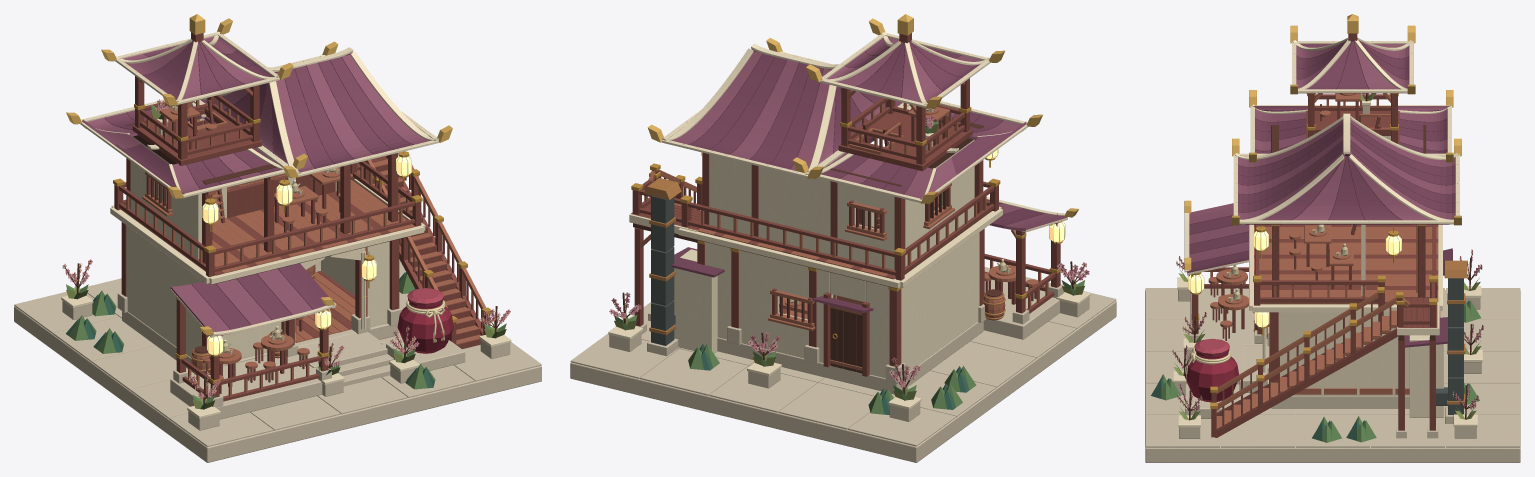
File: tavern.glb
3 renders of one model, left to right at view 1: azimuth 30°, elevation 25°; view 2: azimuth 150°, elevation 25°; view 3: azimuth 270°, elevation 25°, orthographic. The views are drawn at different scales.
Parts seen in each view (by area): view 1: TW17batch_0.001, TW17batch_5.001, TW17batch_32.001, TW17batch_11.001, TW17batch_31.001, TW17batch_53.001, TW17batch_21.001, TW17batch_3.001, TW17batch_41.001, TW17batch_42.001, TW17batch_12.001, TW17batch_34.001 (+47 smaller); view 2: TW17batch_0.001, TW17batch_5.001, TW17batch_13.001, TW17batch_32.001, TW17batch_21.001, TW17batch_31.001, TW17batch_53.001, TW17batch_27.001, TW17batch_28.001, TW17batch_1.001, TW17batch_12.001, TW17batch_68.001 (+32 smaller); view 3: TW17batch_0.001, TW17batch_32.001, TW17batch_11.001, TW17batch_31.001, TW17batch_5.001, TW17batch_34.001, TW17batch_68.001, TW17batch_10.001, TW17batch_56.001, TW17batch_37.001, TW17batch_58.001, TW17batch_70.001 (+47 smaller).
Boxes of the visible parts, <box> form: TW17batch_0.001: <box>14,260,541,462</box>; TW17batch_5.001: <box>126,225,389,358</box>; TW17batch_32.001: <box>224,53,413,168</box>; TW17batch_11.001: <box>212,174,415,273</box>; TW17batch_31.001: <box>201,53,429,172</box>; TW17batch_53.001: <box>114,161,421,276</box>; TW17batch_21.001: <box>121,153,399,346</box>; TW17batch_3.001: <box>170,354,322,419</box>; TW17batch_41.001: <box>170,269,312,335</box>; TW17batch_42.001: <box>192,263,328,329</box>; TW17batch_12.001: <box>110,179,425,284</box>; TW17batch_34.001: <box>193,47,438,176</box>; TW17batch_0.001: <box>570,267,1116,462</box>; TW17batch_5.001: <box>705,232,979,378</box>; TW17batch_13.001: <box>709,139,974,269</box>; TW17batch_32.001: <box>688,49,902,169</box>; TW17batch_21.001: <box>697,152,984,366</box>; TW17batch_31.001: <box>671,50,884,170</box>; TW17batch_53.001: <box>681,181,998,280</box>; TW17batch_27.001: <box>673,249,717,353</box>; TW17batch_28.001: <box>651,195,674,345</box>; TW17batch_1.001: <box>717,321,983,394</box>; TW17batch_12.001: <box>677,206,1002,288</box>; TW17batch_68.001: <box>845,38,979,97</box>; TW17batch_0.001: <box>1145,288,1520,462</box>; TW17batch_32.001: <box>1238,123,1455,224</box>; TW17batch_11.001: <box>1254,227,1438,303</box>; TW17batch_31.001: <box>1238,118,1455,224</box>; TW17batch_5.001: <box>1278,312,1409,395</box>; TW17batch_34.001: <box>1233,113,1459,224</box>; TW17batch_68.001: <box>1296,41,1409,93</box>; TW17batch_10.001: <box>1254,224,1438,289</box>; TW17batch_56.001: <box>1216,310,1396,428</box>; TW17batch_37.001: <box>1253,106,1447,153</box>; TW17batch_58.001: <box>1211,293,1402,437</box>; TW17batch_70.001: <box>1292,37,1413,92</box>.
Size of the model in its own units: 10 by 9.91 by 10.
Materials: 24 (8 with a texture image).
